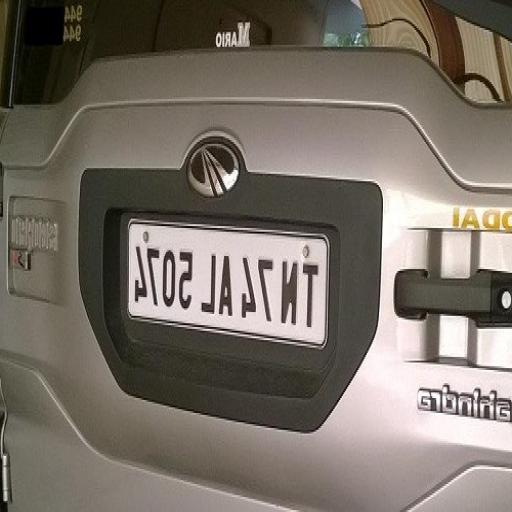License: (120, 220, 332, 346)
